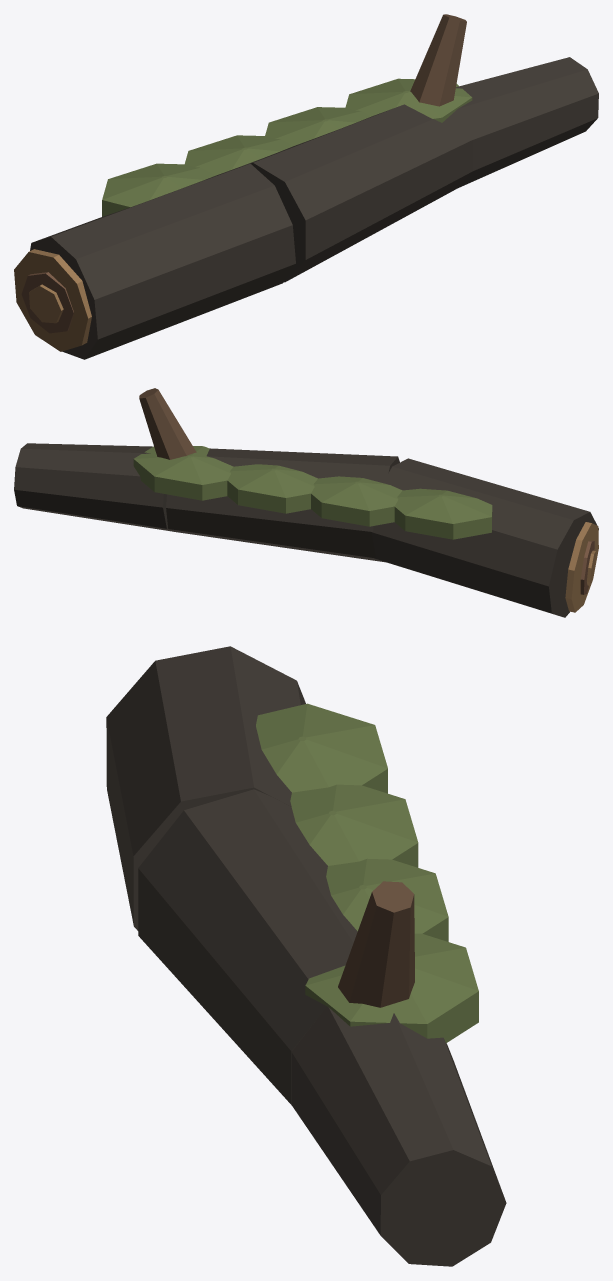
The model's file is NAT_V3_Log_Fallen.glb.
3 views of the same model, one above another, from view 1: azimuth 30°, elevation 25°; view 2: azimuth 150°, elevation 25°; view 3: azimuth 270°, elevation 25° (orthographic). The views are drawn at different scales.
Visible parts, largest first — view 1: NAT_V3_Log_Fallen; view 2: NAT_V3_Log_Fallen; view 3: NAT_V3_Log_Fallen.
Boxes of the visible parts, x1,y1,x2,y2 form: NAT_V3_Log_Fallen: (14, 14, 598, 359); NAT_V3_Log_Fallen: (14, 388, 598, 617); NAT_V3_Log_Fallen: (106, 646, 506, 1266).
Bounding box in the file's own units: 1.99 × 0.6056 × 0.6609.
